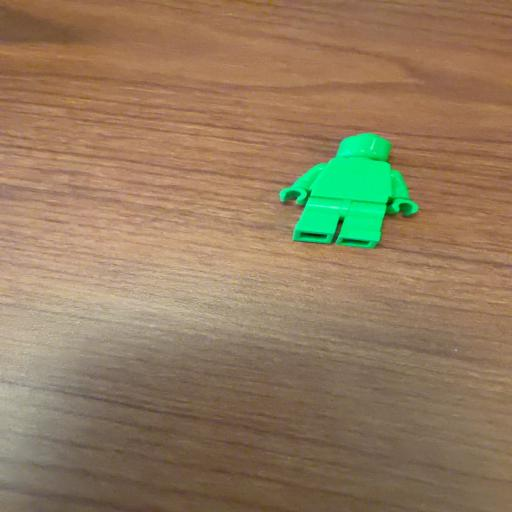UnoQ-minifig-detector: (280, 133, 418, 248)
